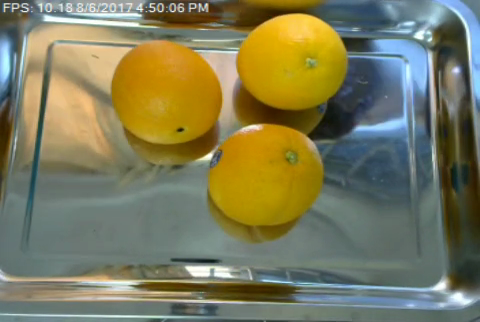Orange: (207, 123, 324, 225), (112, 41, 223, 143), (236, 14, 347, 110)
